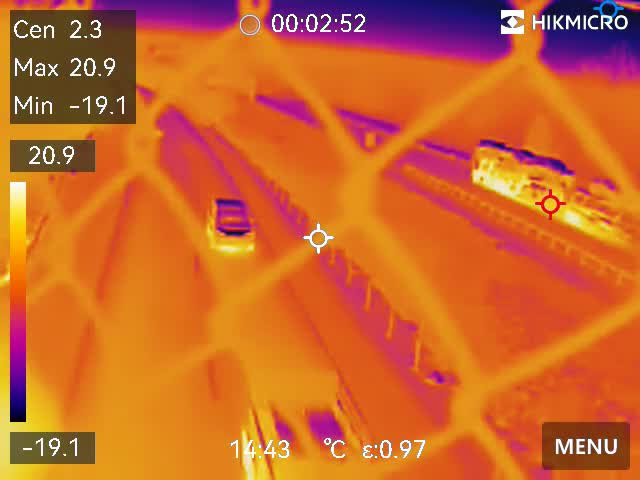heavyTruck: (469, 138, 640, 243)
vehicle: (234, 374, 386, 480), (207, 189, 260, 258)
